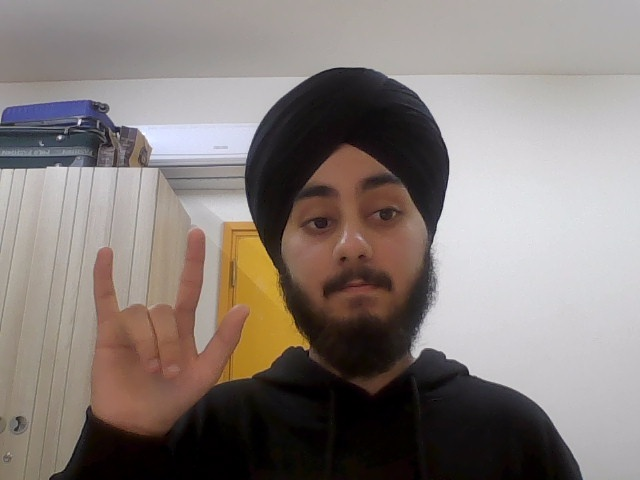ILoveYou: (79, 225, 256, 438)
